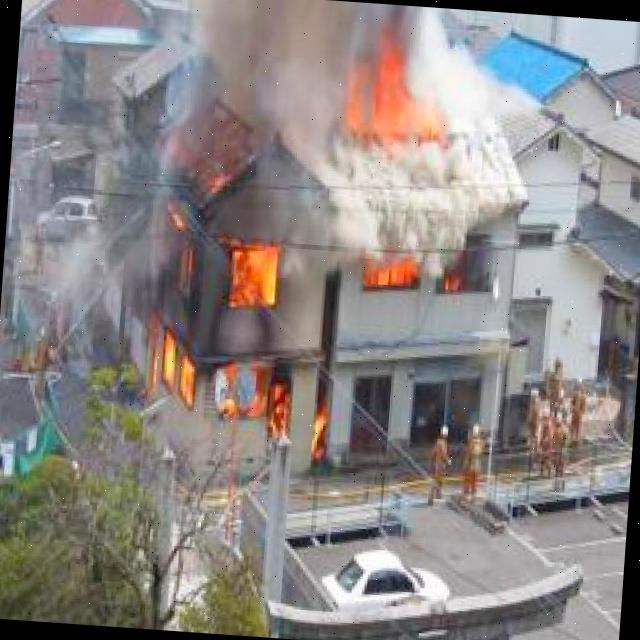fire: (137, 209, 303, 430), (344, 54, 456, 148), (356, 256, 432, 294)
